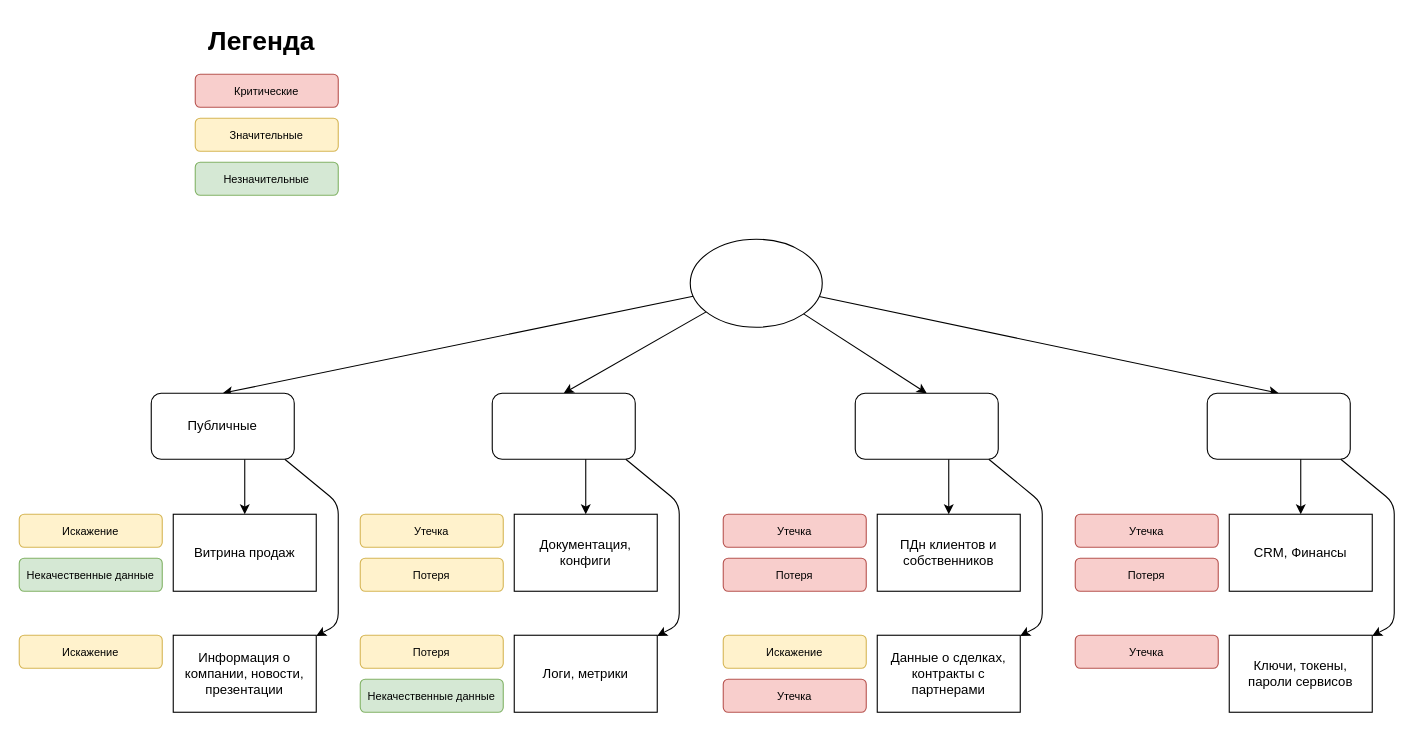
This 1422x732 diagram has some shape labels left out. Each missing label, with the centre of its shape:
"Безопасность данных" belongs at pixel 755 282.
"Внутренние" belongs at pixel 563 425.
"Конфиденциальные" belongs at pixel 926 425.
"Секретные" belongs at pixel 1278 425.
